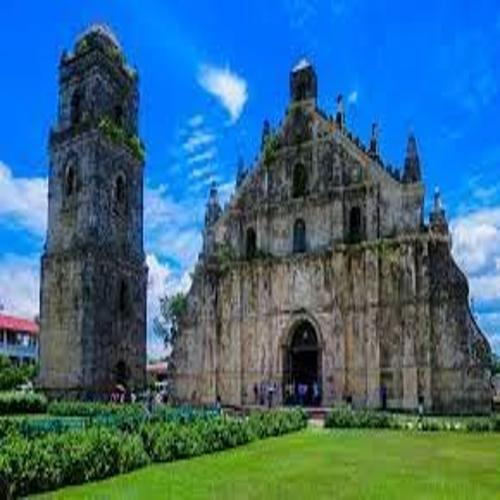Paoay Church: (30, 16, 491, 431)
